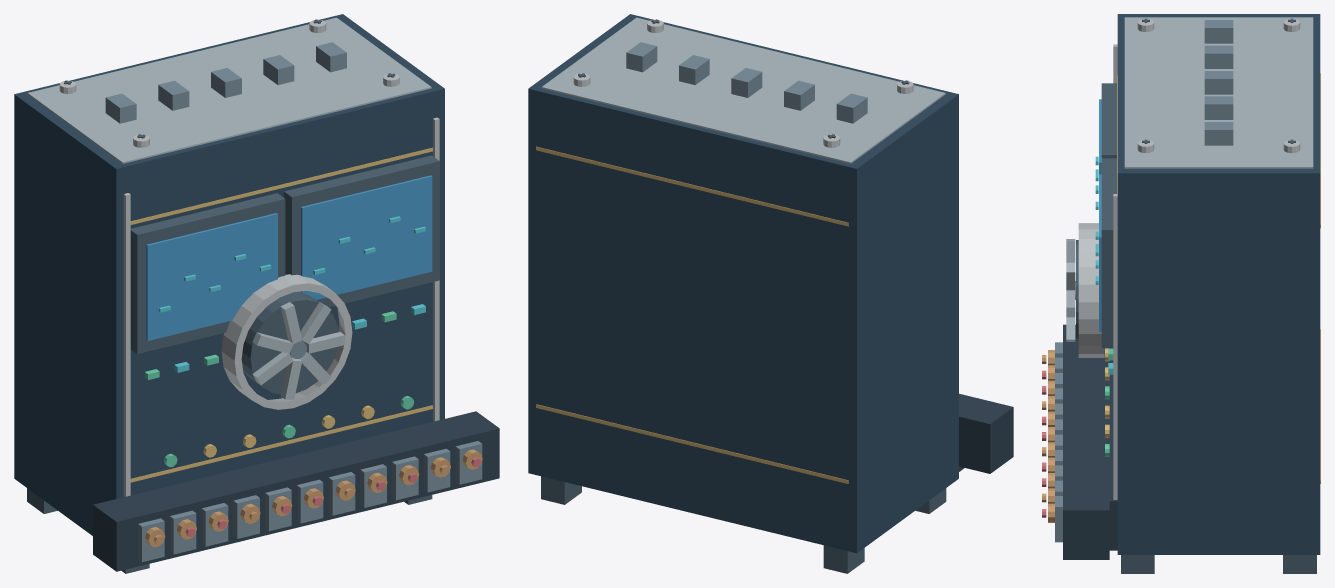
The model's file is 25_L76_PulsedCurrentPlatingRectifier.glb.
The picture shows the model from 3 angles, left to right: view 1: azimuth 30°, elevation 25°; view 2: azimuth 150°, elevation 25°; view 3: azimuth 270°, elevation 25°; orthographic projection.
Parts seen in each view (by area): view 1: PulsedCurrentPlatingRectifier_Node_0000, PulsedCurrentPlatingRectifier_Node_0007, PulsedCurrentPlatingRectifier_Node_0102, PulsedCurrentPlatingRectifier_Node_0032, PulsedCurrentPlatingRectifier_Node_0025, PulsedCurrentPlatingRectifier_Node_0024, PulsedCurrentPlatingRectifier_Node_0031, PulsedCurrentPlatingRectifier_Node_0093, PulsedCurrentPlatingRectifier_Node_0092, PulsedCurrentPlatingRectifier_Node_0005, PulsedCurrentPlatingRectifier_Node_0021, PulsedCurrentPlatingRectifier_Node_0023 (+19 smaller); view 2: PulsedCurrentPlatingRectifier_Node_0000, PulsedCurrentPlatingRectifier_Node_0007, PulsedCurrentPlatingRectifier_Node_0102, PulsedCurrentPlatingRectifier_Node_0022, PulsedCurrentPlatingRectifier_Node_0020, PulsedCurrentPlatingRectifier_Node_0045, PulsedCurrentPlatingRectifier_Node_0047, PulsedCurrentPlatingRectifier_Node_0087, PulsedCurrentPlatingRectifier_Node_0089, PulsedCurrentPlatingRectifier_Node_0091, PulsedCurrentPlatingRectifier_Node_0088, PulsedCurrentPlatingRectifier_Node_0090; view 3: PulsedCurrentPlatingRectifier_Node_0000, PulsedCurrentPlatingRectifier_Node_0007, PulsedCurrentPlatingRectifier_Node_0102, PulsedCurrentPlatingRectifier_Node_0093, PulsedCurrentPlatingRectifier_Node_0031, PulsedCurrentPlatingRectifier_Node_0006, PulsedCurrentPlatingRectifier_Node_0024, PulsedCurrentPlatingRectifier_Node_0049, PulsedCurrentPlatingRectifier_Node_0087, PulsedCurrentPlatingRectifier_Node_0089, PulsedCurrentPlatingRectifier_Node_0090, PulsedCurrentPlatingRectifier_Node_0091 (+5 smaller).
Part boxes in pixels (x1,y1,x2,y2): PulsedCurrentPlatingRectifier_Node_0000: (14,14,444,535); PulsedCurrentPlatingRectifier_Node_0007: (27,17,431,163); PulsedCurrentPlatingRectifier_Node_0102: (93,411,499,571); PulsedCurrentPlatingRectifier_Node_0032: (301,175,432,299); PulsedCurrentPlatingRectifier_Node_0025: (146,213,277,340); PulsedCurrentPlatingRectifier_Node_0024: (130,193,285,353); PulsedCurrentPlatingRectifier_Node_0031: (284,155,439,307); PulsedCurrentPlatingRectifier_Node_0093: (221,274,352,409); PulsedCurrentPlatingRectifier_Node_0092: (241,291,338,394); PulsedCurrentPlatingRectifier_Node_0005: (123,193,130,496); PulsedCurrentPlatingRectifier_Node_0021: (130,405,432,482); PulsedCurrentPlatingRectifier_Node_0023: (130,147,432,224); PulsedCurrentPlatingRectifier_Node_0000: (528,14,958,553); PulsedCurrentPlatingRectifier_Node_0007: (541,17,945,163); PulsedCurrentPlatingRectifier_Node_0102: (959,393,1013,473); PulsedCurrentPlatingRectifier_Node_0022: (536,146,848,226); PulsedCurrentPlatingRectifier_Node_0020: (536,404,848,483); PulsedCurrentPlatingRectifier_Node_0045: (823,545,864,573); PulsedCurrentPlatingRectifier_Node_0047: (541,476,581,504); PulsedCurrentPlatingRectifier_Node_0087: (836,93,867,123); PulsedCurrentPlatingRectifier_Node_0089: (731,68,762,97); PulsedCurrentPlatingRectifier_Node_0091: (626,42,657,72); PulsedCurrentPlatingRectifier_Node_0088: (784,80,814,110); PulsedCurrentPlatingRectifier_Node_0090: (679,55,709,85); PulsedCurrentPlatingRectifier_Node_0000: (1117,14,1320,554); PulsedCurrentPlatingRectifier_Node_0007: (1124,17,1313,168); PulsedCurrentPlatingRectifier_Node_0102: (1063,324,1109,559); PulsedCurrentPlatingRectifier_Node_0093: (1078,223,1104,357); PulsedCurrentPlatingRectifier_Node_0031: (1101,158,1116,348); PulsedCurrentPlatingRectifier_Node_0006: (1113,194,1117,499); PulsedCurrentPlatingRectifier_Node_0024: (1101,83,1116,158); PulsedCurrentPlatingRectifier_Node_0049: (1109,348,1117,550); PulsedCurrentPlatingRectifier_Node_0087: (1204,20,1233,43); PulsedCurrentPlatingRectifier_Node_0089: (1204,71,1233,94); PulsedCurrentPlatingRectifier_Node_0090: (1204,96,1233,119); PulsedCurrentPlatingRectifier_Node_0091: (1204,122,1233,145).
Size of the model in its own units: 1.69 by 1.8 by 1.07.
